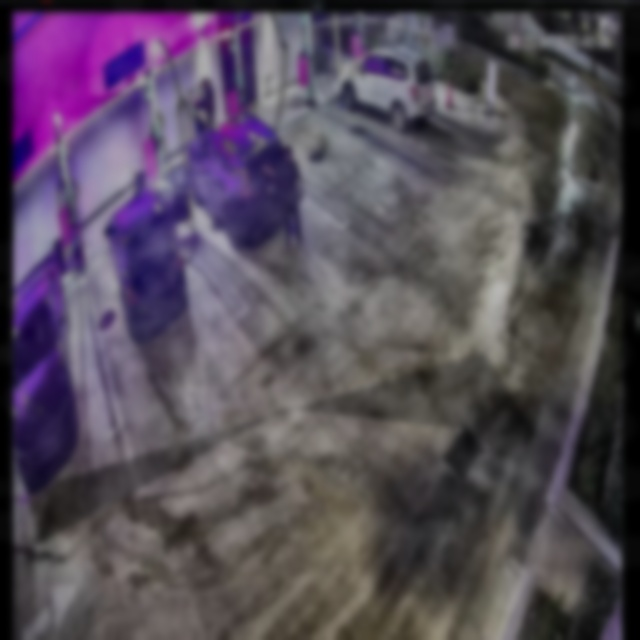Car: (188, 111, 292, 244), (108, 183, 187, 335)
